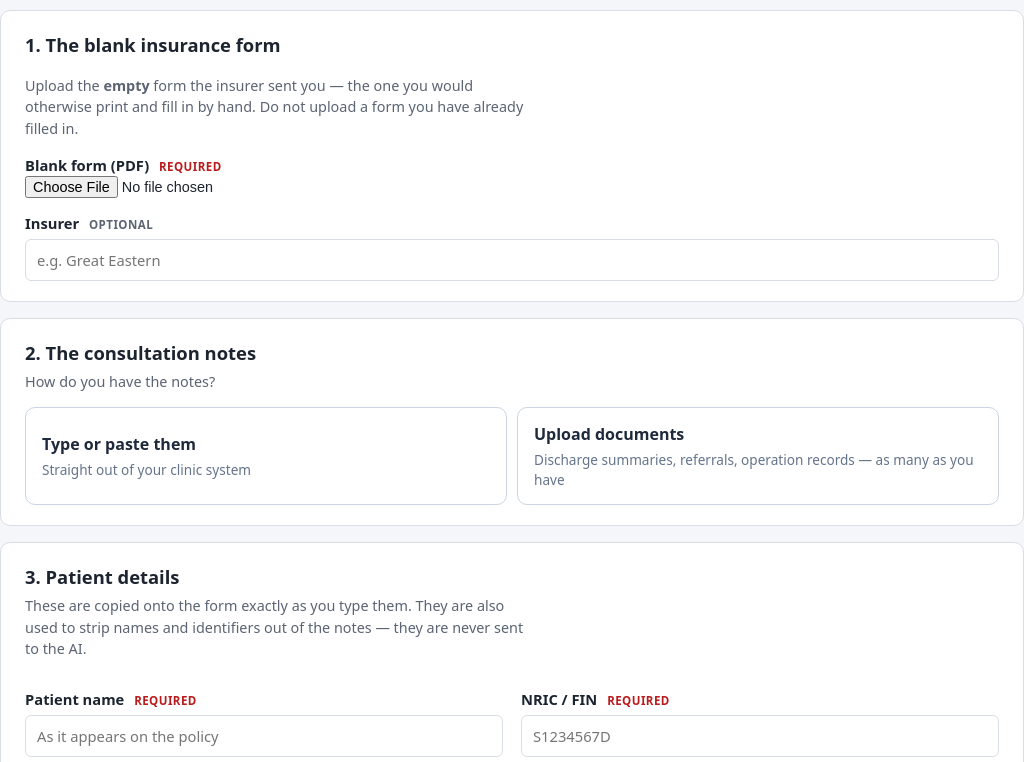
Test: section 2 — how the doctor has the notes › a wrong choice can be backed out of
Click the button "Upload documents" at (758, 456), box [517,407,999,506]
(page scrolled)
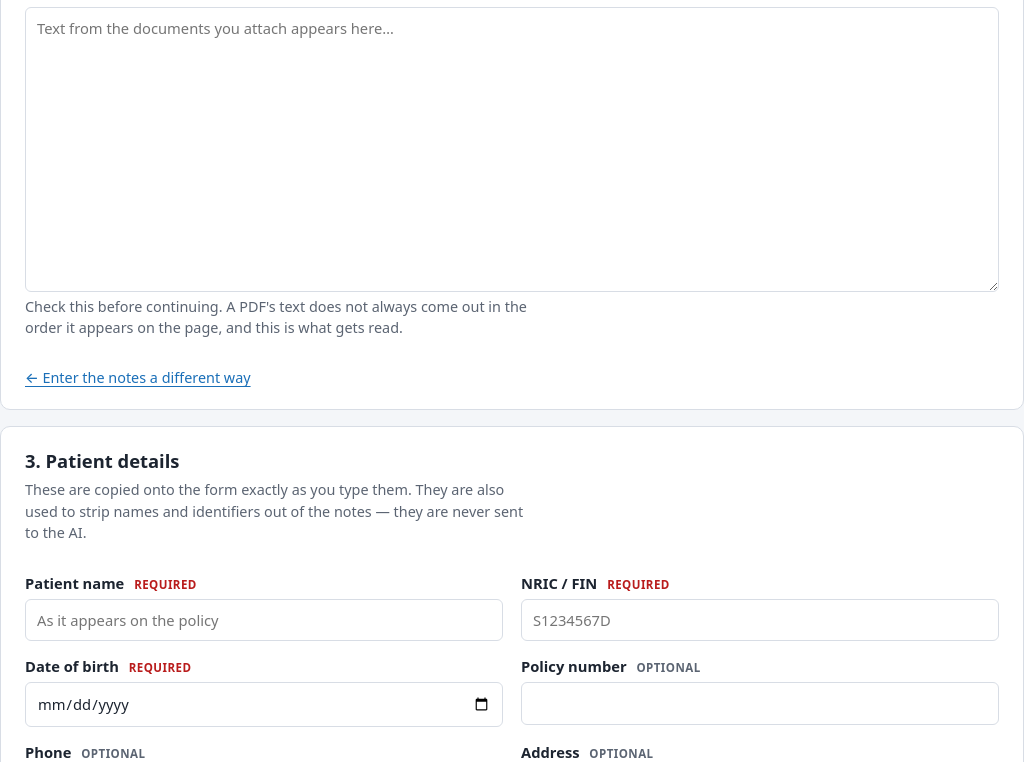
Click the button "← Enter the notes a different way" at (138, 378), box [25,367,251,389]
(page scrolled)
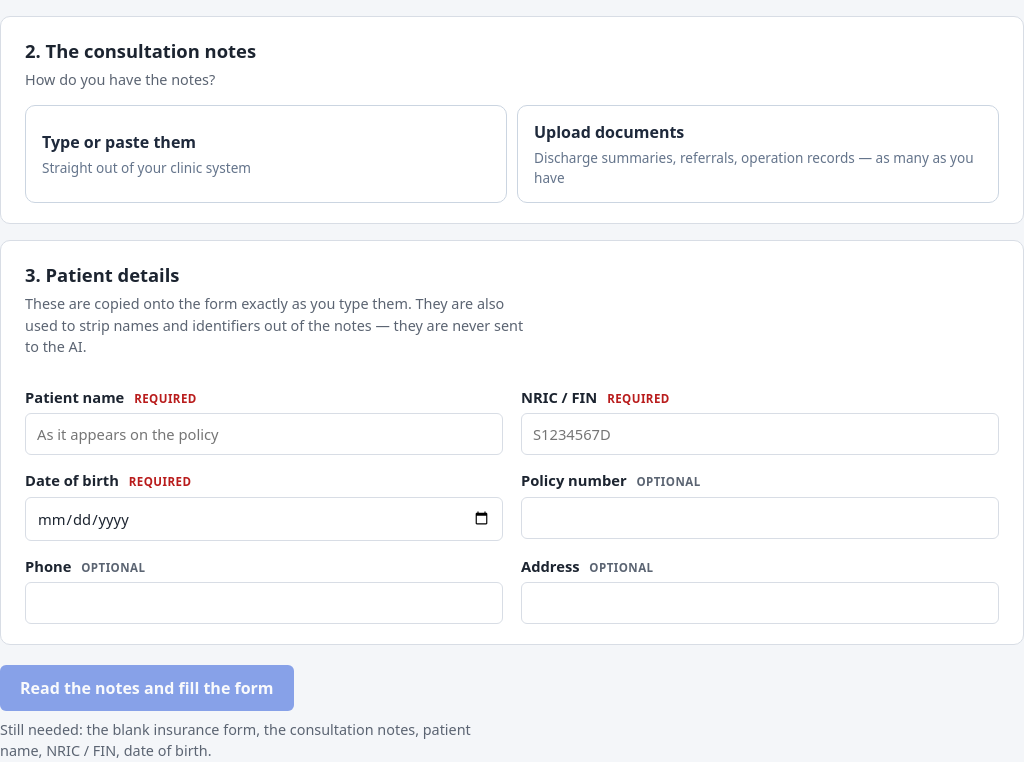
Now the button "Type or paste them Straight out of your clinic system" is shown, box [25,105,507,204]
